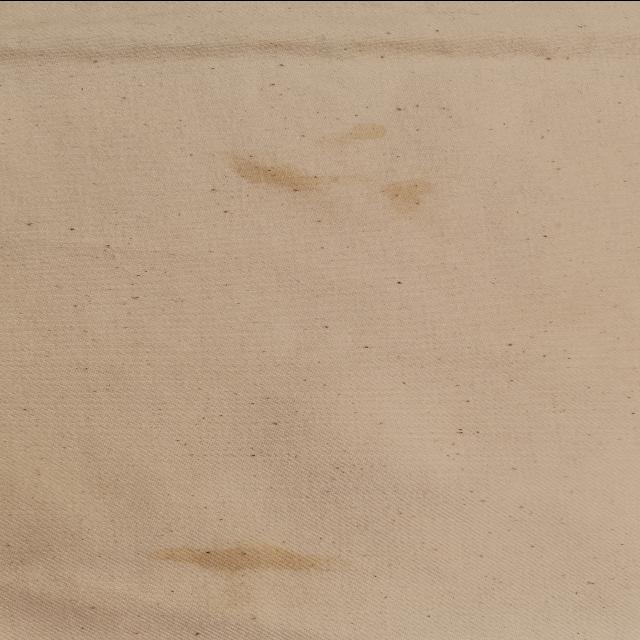taaaches: (137, 519, 397, 596), (222, 157, 324, 197), (369, 178, 445, 208), (338, 115, 394, 139)
